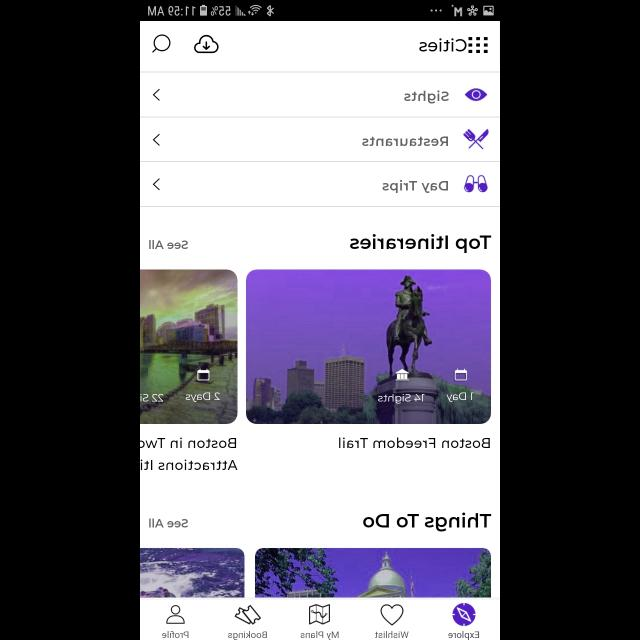backgroundimage: (140, 270, 238, 424)
icon: (452, 602, 476, 626), (235, 605, 261, 625), (381, 604, 404, 626), (194, 34, 218, 54), (308, 604, 329, 624), (152, 34, 172, 54), (167, 606, 186, 624), (468, 37, 488, 54), (464, 88, 488, 102), (198, 369, 210, 381), (454, 369, 466, 381), (396, 370, 408, 380), (152, 178, 160, 190), (152, 134, 160, 146), (152, 89, 160, 101)
image: (245, 270, 490, 424), (255, 547, 491, 597), (140, 548, 244, 598), (463, 128, 489, 150), (464, 175, 488, 193)
text: (140, 438, 238, 470), (350, 234, 490, 254), (363, 512, 491, 532), (338, 438, 489, 448), (362, 137, 448, 147), (382, 180, 448, 193), (418, 39, 466, 53), (404, 92, 448, 105), (378, 392, 424, 403), (148, 239, 188, 249), (300, 630, 340, 640), (228, 630, 268, 640), (149, 518, 187, 528), (186, 393, 220, 403), (448, 630, 479, 640), (446, 392, 474, 402), (375, 630, 409, 638), (140, 394, 163, 402), (162, 632, 190, 638)
uppertaskbar: (140, 1, 500, 22)
